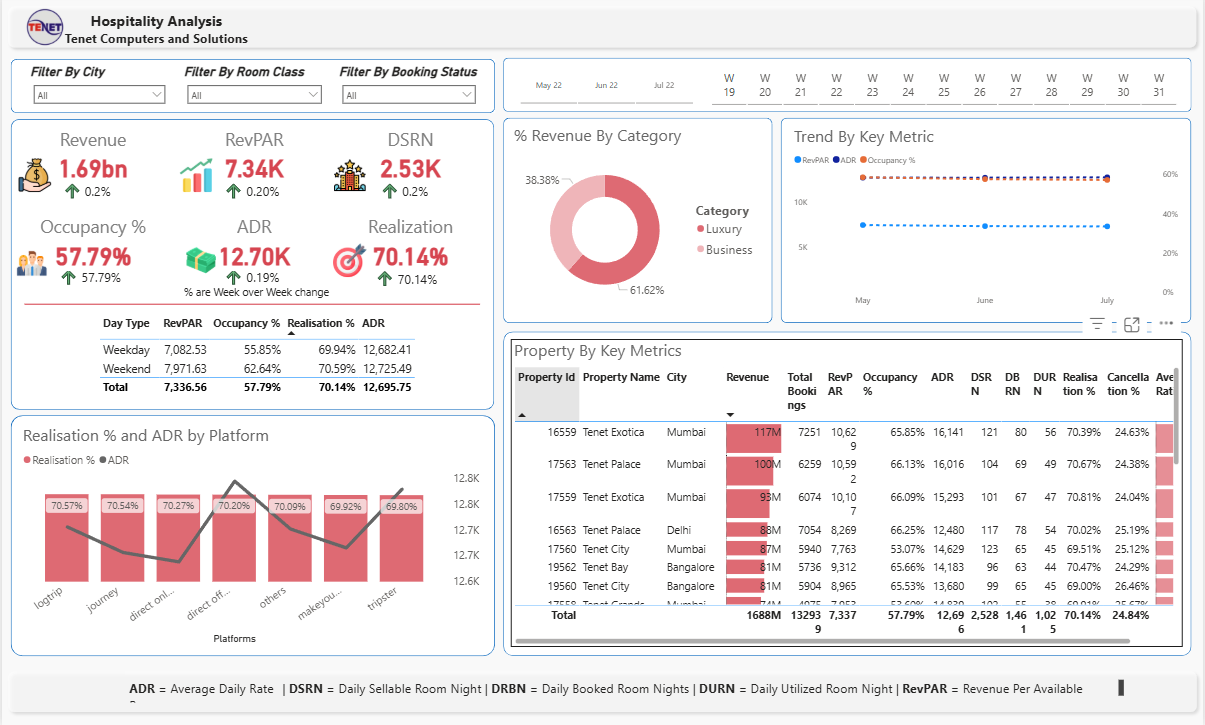

The page's visual inventory and layout, read from the dashboard file:
{"tool":"powerbi","page":{"name":"Page 1","canvas":[1800,1100],"ordinal":0},"visuals":[{"type":"shape","box":[0,10,1800,80],"z":0},{"type":"shape","box":[752,506.9,1032.2,486.6],"z":1000},{"type":"shape","box":[12.9,632.2,726.2,361.3],"z":2000},{"type":"shape","box":[1168.6,186.2,615.6,307.8],"z":3000},{"type":"shape","box":[752,186.2,403.7,307.8],"z":4000},{"type":"shape","box":[13.3,186.7,725,436],"z":5000},{"type":"shape","box":[752,96.5,1032.2,81.1],"z":6000},{"type":"shape","box":[12.9,97.5,726.2,81.1],"z":7000},{"type":"tableEx","fields":{"Values":["Key Measures.ADR WoW change %"]},"box":[323.7,381.2,108.6,71.4],"z":8000},{"type":"tableEx","fields":{"Values":["Key Measures.Realisation %"]},"box":[550.9,381.8,122.9,72.9],"z":9000},{"type":"tableEx","fields":{"Values":["Key Measures.Occupancy %"]},"box":[76.6,380.9,118.6,71.4],"z":10000},{"type":"tableEx","title":"Property By Key Metrics","fields":{"Values":["Hotels.property_id","Hotels.property_name","Hotels.city","key_measures.Revenue","key_measures.Total Bookings","key_measures.RevPAR","key_measures.Occupancy %","key_measures.ADR","key_measures.DSRN","key_measures.DBRN","key_measures.DURN","key_measures.Realisation %"]},"box":[762.5,517.5,1007.5,462.5],"z":11000},{"type":"slicer","title":"Filter By City","fields":{"Values":["Hotels.city"]},"box":[36.9,105.8,217.5,64.5],"z":12000},{"type":"slicer","title":"Filter By Room Class","fields":{"Values":["dim_rooms.room_class"]},"box":[267.3,105.8,221.2,64.5],"z":13000},{"type":"slicer","fields":{"Values":["dim_date.mmm yy"]},"box":[752,102.9,307.8,68.2],"z":14000},{"type":"slicer","fields":{"Values":["dim_date.week no"]},"box":[1037.7,101.1,746.5,71.9],"z":15000},{"type":"tableEx","fields":{"Values":["key_measures.Revenue WoW change %"]},"box":[81.6,250.9,108.6,71.4],"z":16000},{"type":"card","title":"Revenue","fields":{"Values":["key_measures.Revenue"]},"box":[42.5,198.7,186.8,85.9],"z":17000},{"type":"donutChart","title":"% Revenue By Category","fields":{"Category":["Hotels.category"],"Y":["key_measures.Revenue"]},"box":[763.1,195.4,381.5,285.7],"z":18000},{"type":"lineChart","title":"Trend By Key Metric","fields":{"Category":["Date.mmm yy.Variation.Date Hierarchy.Month","Date.week no"],"Y":["Key Measures.RevPAR","Key Measures.ADR"],"Y2":["Key Measures.Occupancy %"]},"box":[1183.3,197.2,586.1,280.2],"z":19000},{"type":"lineStackedColumnComboChart","title":"Realisation % and ADR by Platform","fields":{"Category":["bookings.booking_platform"],"Y":["Key Measures.Realisation %"],"Y2":["Key Measures.ADR"]},"box":[25.8,645.1,694.9,335.5],"z":20000},{"type":"tableEx","fields":{"Values":["Date.day type","Key Measures.RevPAR","Key Measures.Occupancy %","Key Measures.Realisation %","Key Measures.ADR"]},"box":[140,473.3,483.3,138.3],"z":21000},{"type":"card","title":"Occupancy % ","fields":{"Values":["Key Measures.Occupancy %"]},"box":[42.5,329.8,186.8,85.9],"z":22000},{"type":"card","title":"ADR","fields":{"Values":["Key Measures.ADR"]},"box":[284.6,329.8,186.8,85.9],"z":23000},{"type":"card","title":"Realization","fields":{"Values":["Key Measures.Realisation %"]},"box":[518.9,330.1,186.8,85.9],"z":24000},{"type":"tableEx","fields":{"Values":["Key Measures.Revpar WoW change %"]},"box":[324.4,251.2,107.1,71.4],"z":25000},{"type":"slicer","title":"Filter By Booking Status","fields":{"Values":["bookings.booking_status"]},"box":[501.3,105.8,219.3,64.5],"z":26000},{"type":"shape","box":[-0.8,1006.9,1800.8,79.3],"z":27000},{"type":"textbox","box":[186.5,1024.4,1501.4,44.3],"z":28000},{"type":"card","title":"RevPAR","fields":{"Values":["Key Measures.RevPAR"]},"box":[284.6,198.7,186.8,85.9],"z":29000},{"type":"tableEx","fields":{"Values":["key_measures.Revenue WoW change %"]},"box":[558.1,250.4,108.6,71.4],"z":30000},{"type":"card","title":"DSRN","fields":{"Values":["Key Measures.DSRN"]},"box":[518.9,199.1,186.8,85.9],"z":31000},{"type":"shape","box":[34.4,454.4,683.3,23.3],"z":32000},{"type":"textbox","box":[267.3,431.8,263.6,36.4],"z":33000},{"type":"image","box":[13.3,370,65,60],"z":34000},{"type":"image","box":[16.7,241.7,65,60],"z":35000},{"type":"image","box":[258.3,241.7,65,60],"z":36000},{"type":"image","box":[266.7,370,65,60],"z":37000},{"type":"image","box":[488.3,370,65,60],"z":38000},{"type":"image","box":[488.3,241.7,65,60],"z":39000},{"type":"image","box":[18.8,9.1,88.8,82.5],"z":40000},{"type":"textbox","box":[73.3,20,316.7,63.3],"z":41000}]}

Visuals, with their boxes in screenshot pixels (x1, y1, x2, y2), scaled from the page's 1800x1100 canvas onto the 1205x725 screenshot:
shape: x1=0 y1=7 x2=1204 y2=59
shape: x1=503 y1=334 x2=1194 y2=655
shape: x1=9 y1=417 x2=495 y2=655
shape: x1=782 y1=123 x2=1194 y2=326
shape: x1=503 y1=123 x2=774 y2=326
shape: x1=9 y1=123 x2=494 y2=410
shape: x1=503 y1=64 x2=1194 y2=117
shape: x1=9 y1=64 x2=495 y2=118
tableEx - Key Measures.ADR WoW change %: x1=217 y1=251 x2=289 y2=298
tableEx - Key Measures.Realisation %: x1=369 y1=252 x2=451 y2=300
tableEx - Key Measures.Occupancy %: x1=51 y1=251 x2=131 y2=298
"Property By Key Metrics" tableEx: x1=510 y1=341 x2=1185 y2=646
"Filter By City" slicer: x1=25 y1=70 x2=170 y2=112
"Filter By Room Class" slicer: x1=179 y1=70 x2=327 y2=112
slicer - dim_date.mmm yy: x1=503 y1=68 x2=709 y2=113
slicer - dim_date.week no: x1=695 y1=67 x2=1194 y2=114
tableEx - key_measures.Revenue WoW change %: x1=55 y1=165 x2=127 y2=212
"Revenue" card: x1=28 y1=131 x2=154 y2=188
"% Revenue By Category" donutChart: x1=511 y1=129 x2=766 y2=317
"Trend By Key Metric" lineChart: x1=792 y1=130 x2=1185 y2=315
"Realisation % and ADR by Platform" lineStackedColumnComboChart: x1=17 y1=425 x2=482 y2=646
tableEx - Date.day type x Key Measures.RevPAR: x1=94 y1=312 x2=417 y2=403
"Occupancy % " card: x1=28 y1=217 x2=154 y2=274
"ADR" card: x1=191 y1=217 x2=316 y2=274
"Realization" card: x1=347 y1=218 x2=472 y2=274
tableEx - Key Measures.Revpar WoW change %: x1=217 y1=166 x2=289 y2=213
"Filter By Booking Status" slicer: x1=336 y1=70 x2=482 y2=112
shape: x1=0 y1=664 x2=1204 y2=716
textbox: x1=125 y1=675 x2=1130 y2=704
"RevPAR" card: x1=191 y1=131 x2=316 y2=188
tableEx - key_measures.Revenue WoW change %: x1=374 y1=165 x2=446 y2=212
"DSRN" card: x1=347 y1=131 x2=472 y2=188
shape: x1=23 y1=299 x2=480 y2=315
textbox: x1=179 y1=285 x2=355 y2=309
image: x1=9 y1=244 x2=52 y2=283
image: x1=11 y1=159 x2=55 y2=199
image: x1=173 y1=159 x2=216 y2=199
image: x1=179 y1=244 x2=222 y2=283
image: x1=327 y1=244 x2=370 y2=283
image: x1=327 y1=159 x2=370 y2=199
image: x1=13 y1=6 x2=72 y2=60
textbox: x1=49 y1=13 x2=261 y2=55
